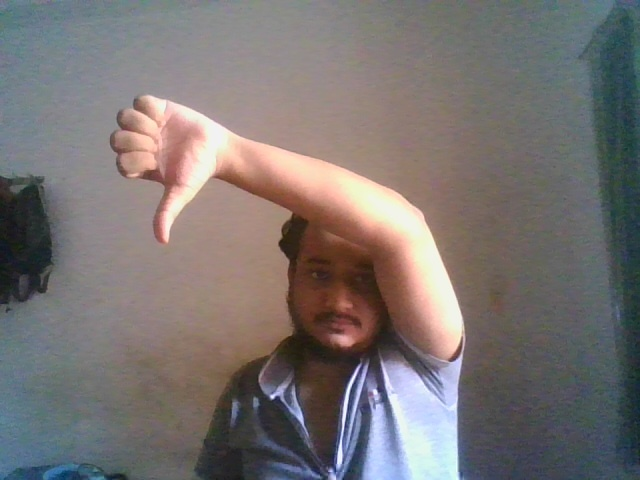ThumbsDown: (108, 91, 230, 251)
